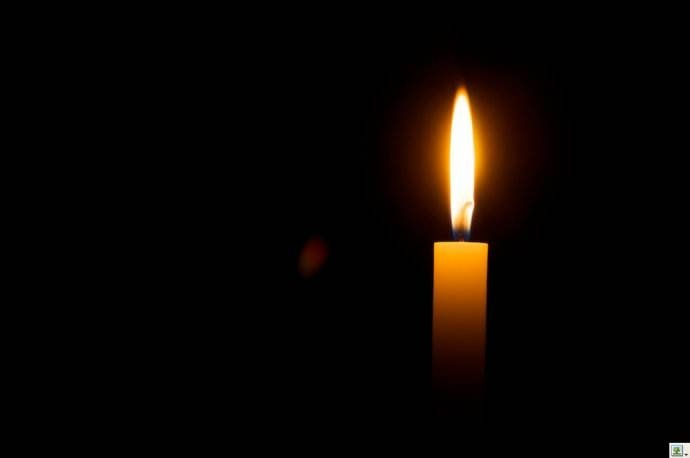fire: (441, 83, 479, 234)
